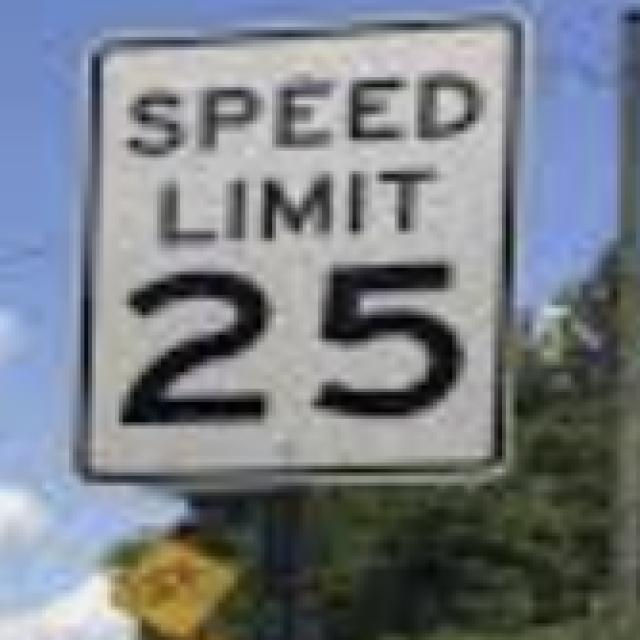speedLimit25: (84, 25, 515, 486)
